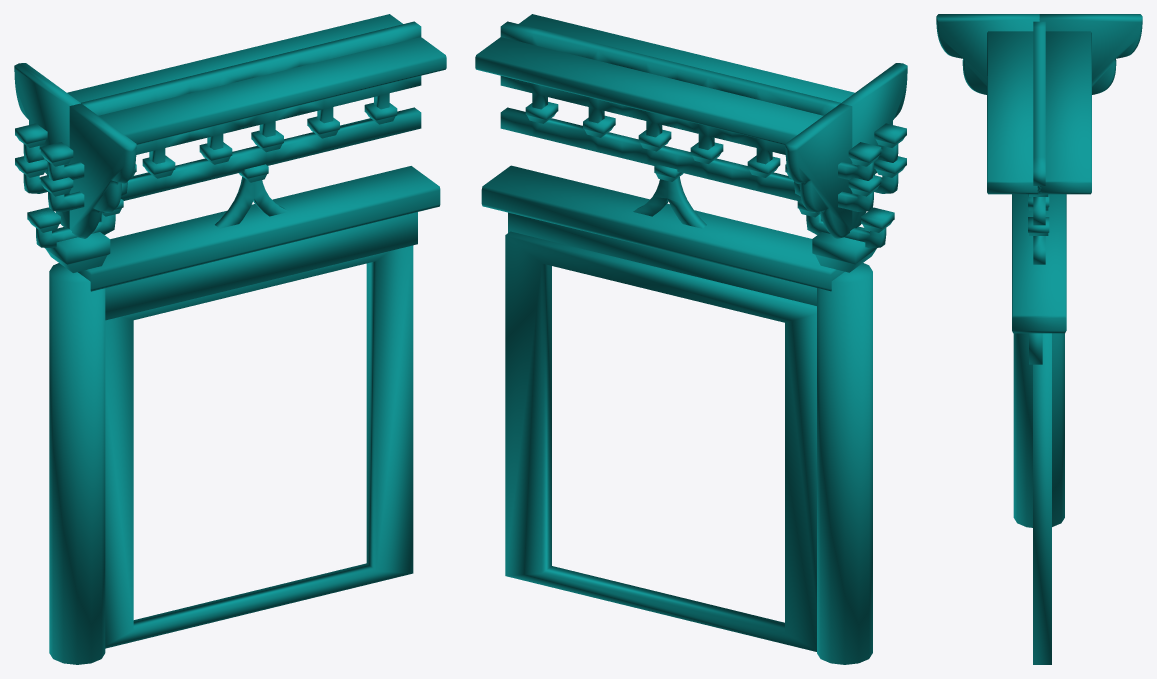
File: 황룡사_리소스_열린_문.fbx
The picture shows the model from 3 angles, left to right: view 1: azimuth 30°, elevation 25°; view 2: azimuth 150°, elevation 25°; view 3: azimuth 270°, elevation 25°; orthographic projection. The views are drawn at different scales.
Parts seen in each view (by area): view 1: dsaw2; view 2: dsaw2; view 3: dsaw2.
Boxes of the visible parts, bbox=[...] form: dsaw2: bbox=[14, 14, 446, 664]; dsaw2: bbox=[475, 14, 907, 664]; dsaw2: bbox=[936, 14, 1142, 664].
Bounding box in the file's own units: 272 × 364 × 136.
